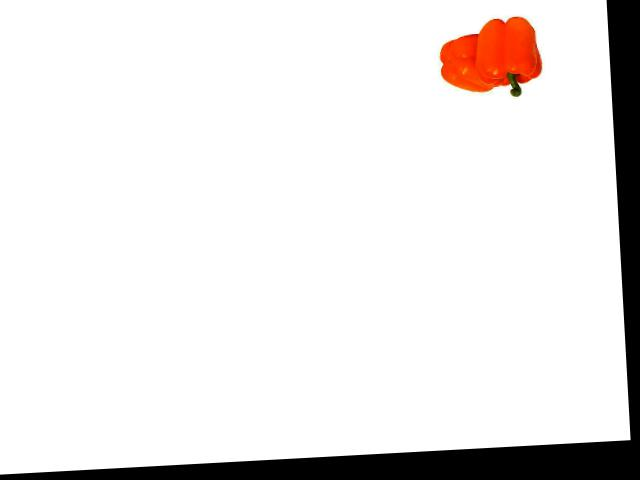bell_pepper: (433, 25, 500, 96)
